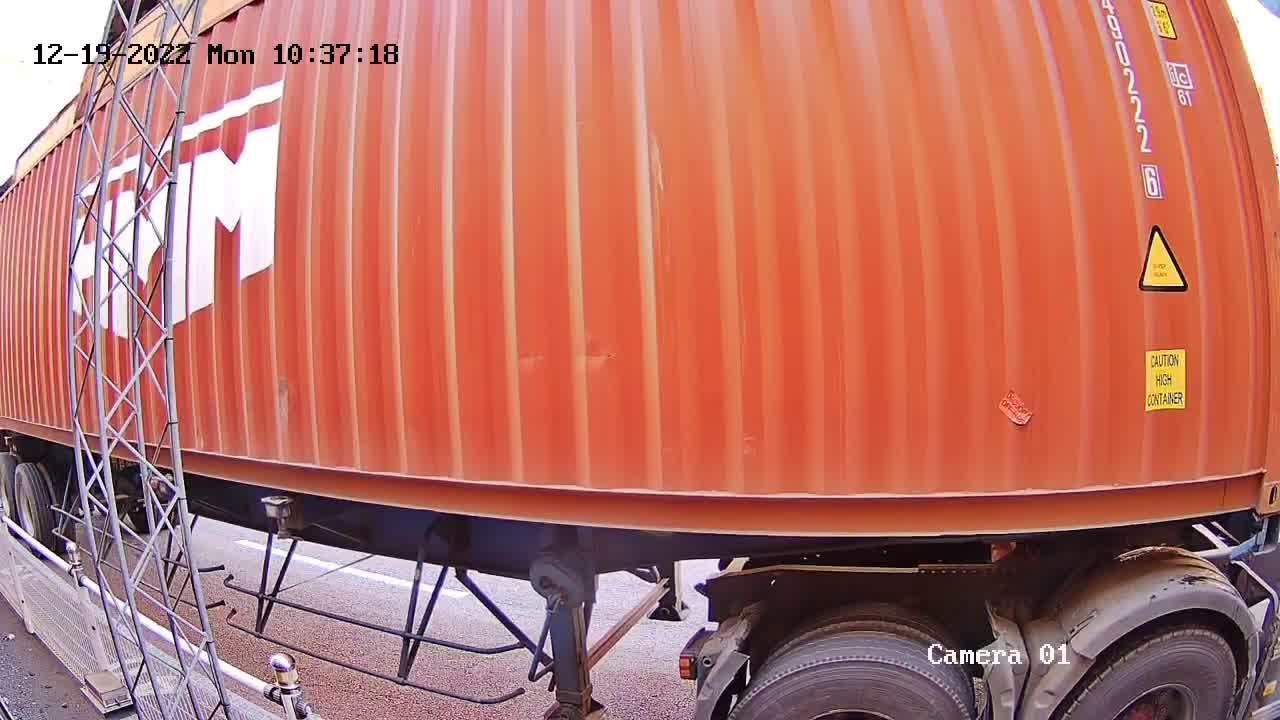Cone: (1234, 515, 1278, 556)
Hole_R: (1216, 439, 1279, 519)
Tire: (1065, 634, 1237, 717), (733, 658, 969, 715)
